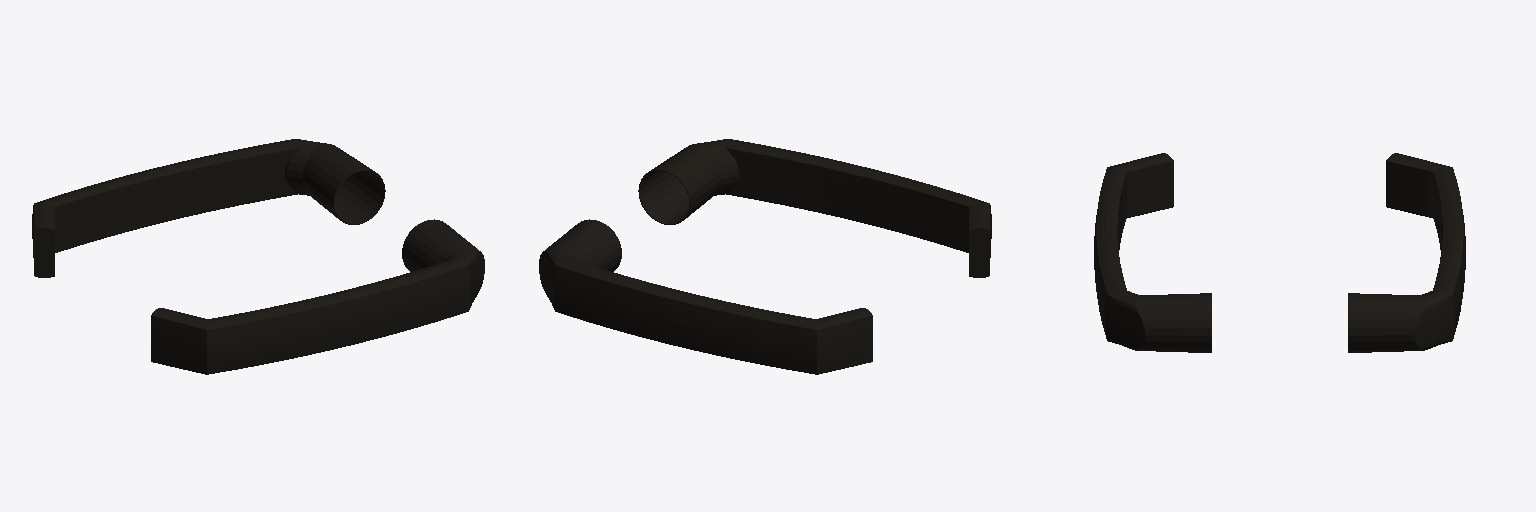
The model's file is 055_knob.obj.
The picture shows the model from 3 angles: view 1: azimuth 30°, elevation 25°; view 2: azimuth 150°, elevation 25°; view 3: azimuth 270°, elevation 25°; orthographic projection.
Size of the model in its own units: 16.38 by 2.61 by 16.11.